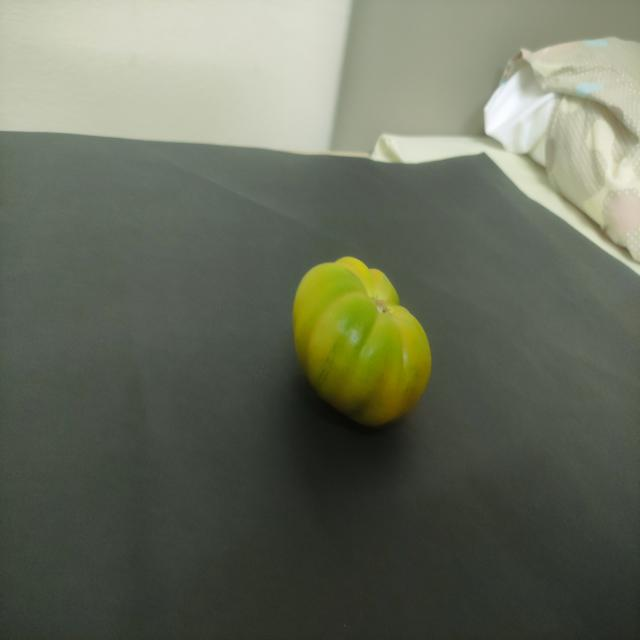yesil: (271, 238, 436, 426)
